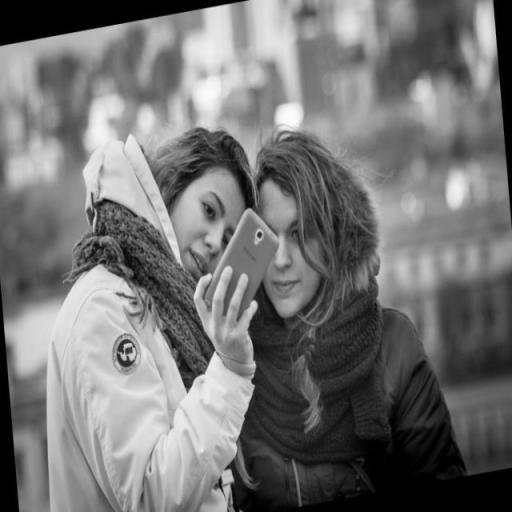phone: (209, 209, 280, 320)
